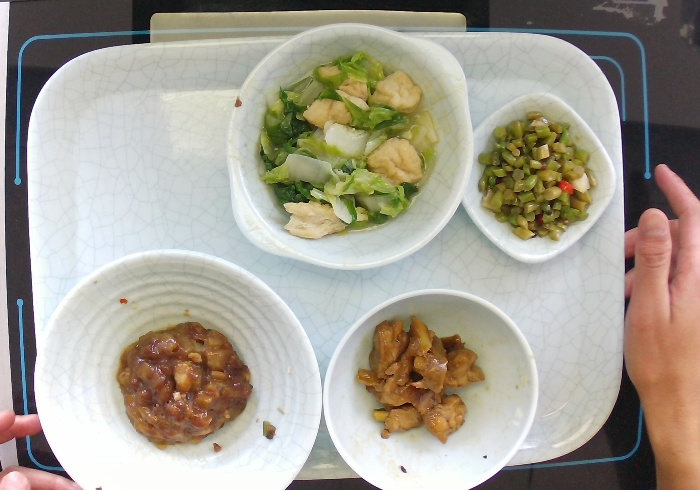JYsf-Fan_Wan: (320, 288, 540, 490)
JYsf-Shuang_Er_Wan: (226, 21, 476, 272)
JYsf-Si_Fang_Die: (460, 90, 618, 266)
JYsf-Xiao_Tang_Wan: (31, 247, 322, 489)
